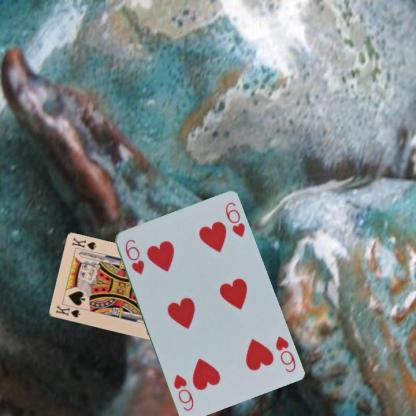6h: (272, 333, 297, 374), (122, 236, 146, 276)
Ks: (52, 303, 82, 319)
